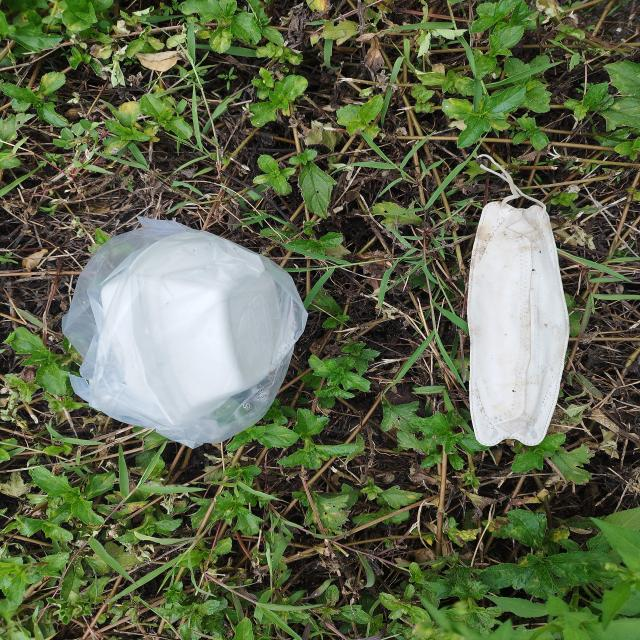mask: (469, 150, 568, 446)
trash bag: (63, 214, 307, 447)
